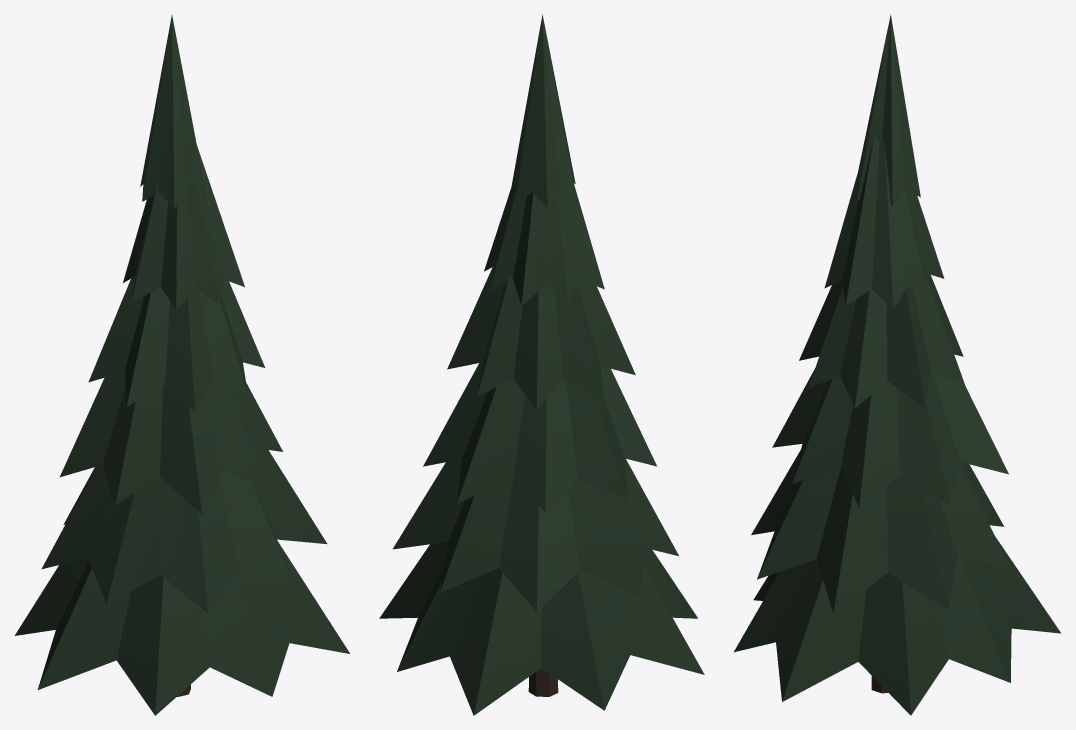
File: conifer_a.glb
3 views of the same model, side by side, from view 1: azimuth 30°, elevation 25°; view 2: azimuth 150°, elevation 25°; view 3: azimuth 270°, elevation 25° (orthographic).
Visible parts, largest first — view 1: Body_LOD0; view 2: Body_LOD0; view 3: Body_LOD0.
Boxes of the visible parts, x1,y1,x2,y2 form: Body_LOD0: (14,15,349,715); Body_LOD0: (379,14,704,715); Body_LOD0: (734,14,1061,715).
Bounding box in the file's own units: 5.98 × 12.85 × 5.68.
